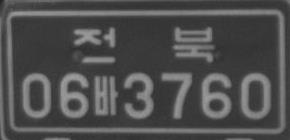0: (239, 71, 272, 120), (21, 70, 52, 119)
3: (122, 70, 155, 119)
6: (58, 70, 90, 119), (200, 71, 232, 120)
7: (159, 70, 193, 119)
바: (92, 75, 118, 116)
전북_D: (71, 26, 215, 63)
